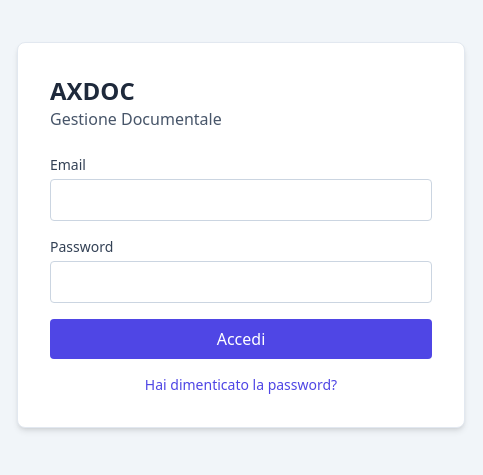
Test: LoginPage › shows locked message on 423
The image size is (483, 475).
Type "test@test.com" into the field labelled "Email" at [241, 200], box [50,179,432,221]
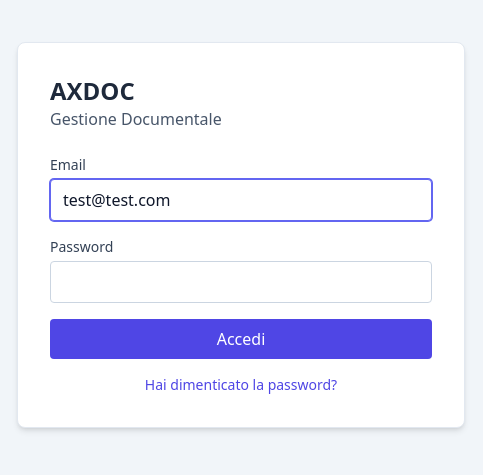
Type "wrong12" into the password field labelled "Password" at [241, 282], box [50,261,432,303]
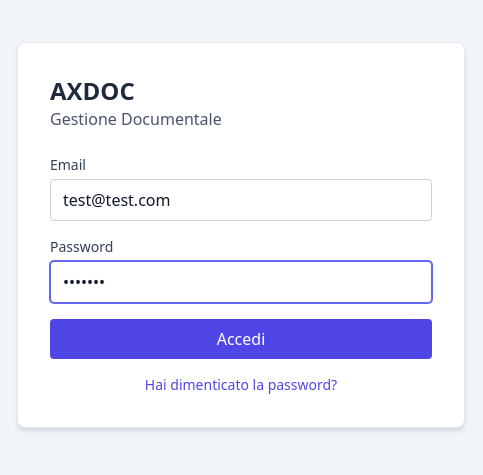
Click the button "Accedi" at [241, 339], box [50,319,432,359]
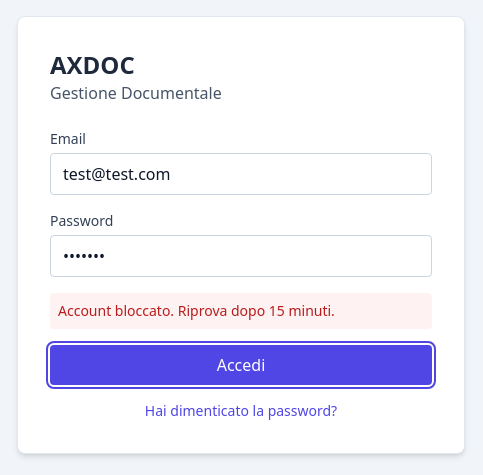
Now the text "Account bloccato. Riprova dopo 15 minuti." is shown, box [50,293,432,329]
